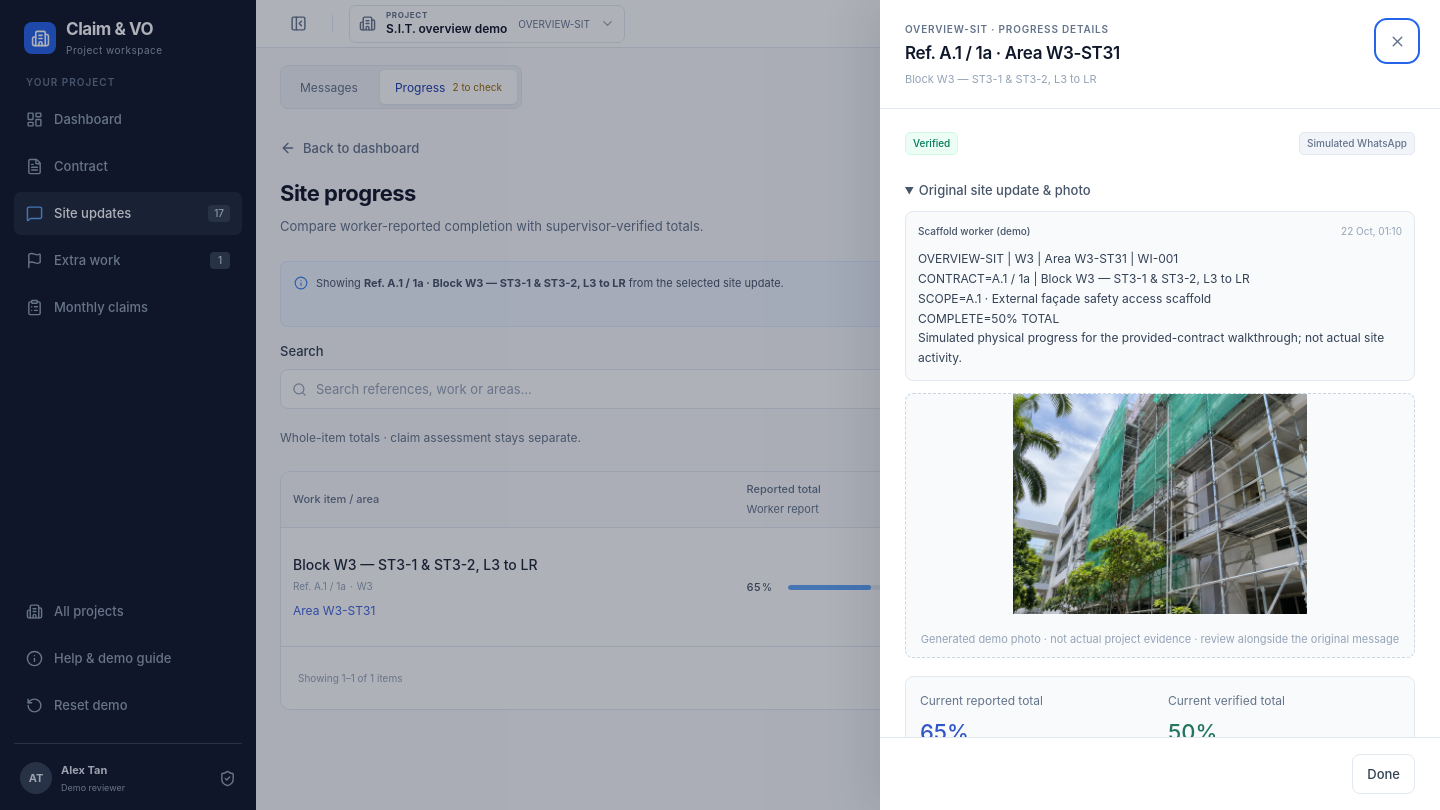
Test: removed Overview links return to Dashboard without changing saved project records › preserves the exact legacy completion record and returns to Dashboard across reload
This screenshot has width=1440, height=810.
Step 1. Click the button named "Close site report" → (1397, 41), box top-left (1379, 23), bottom-right (1415, 59)
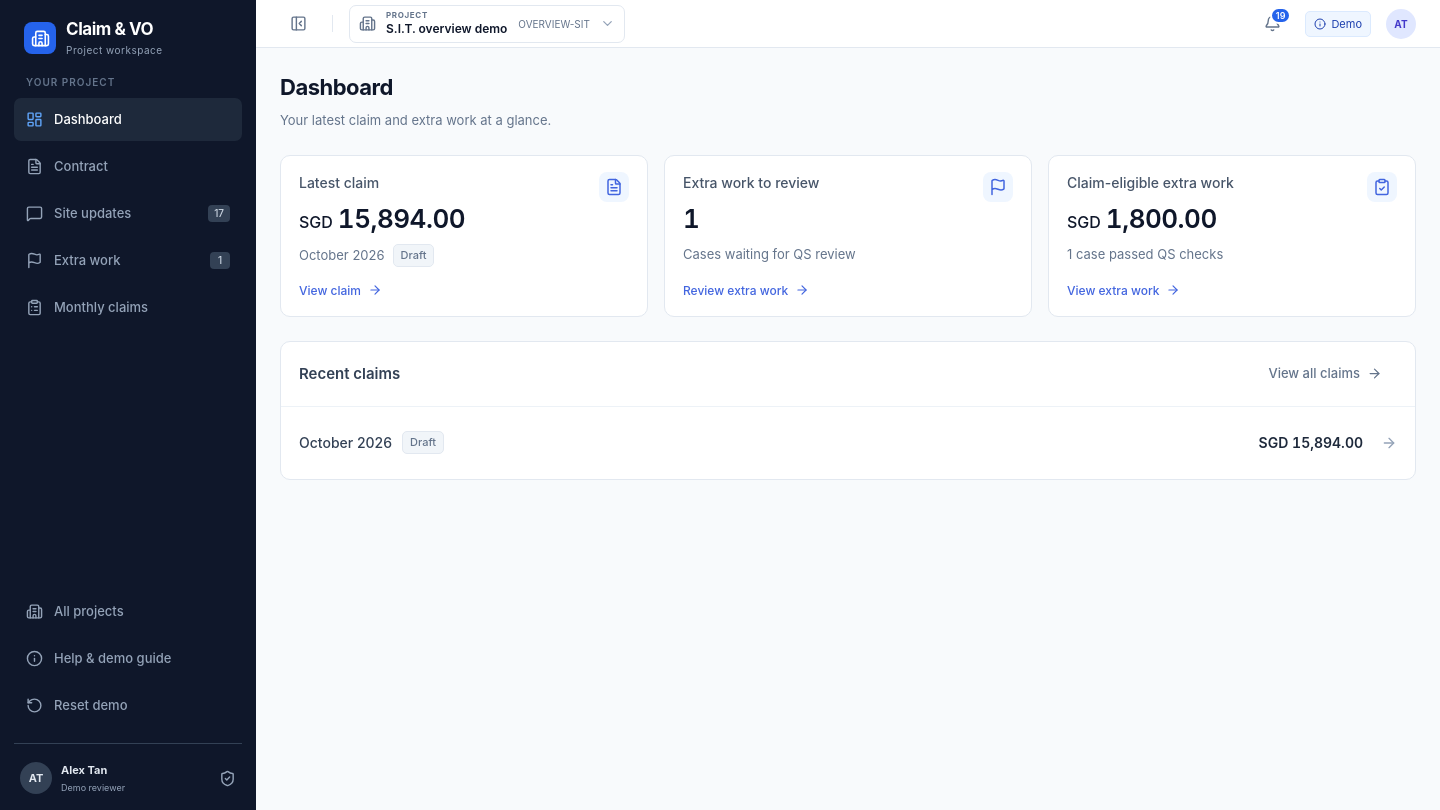
Expected: the heading "Dashboard" is shown, top-left (280, 74), bottom-right (393, 100)
